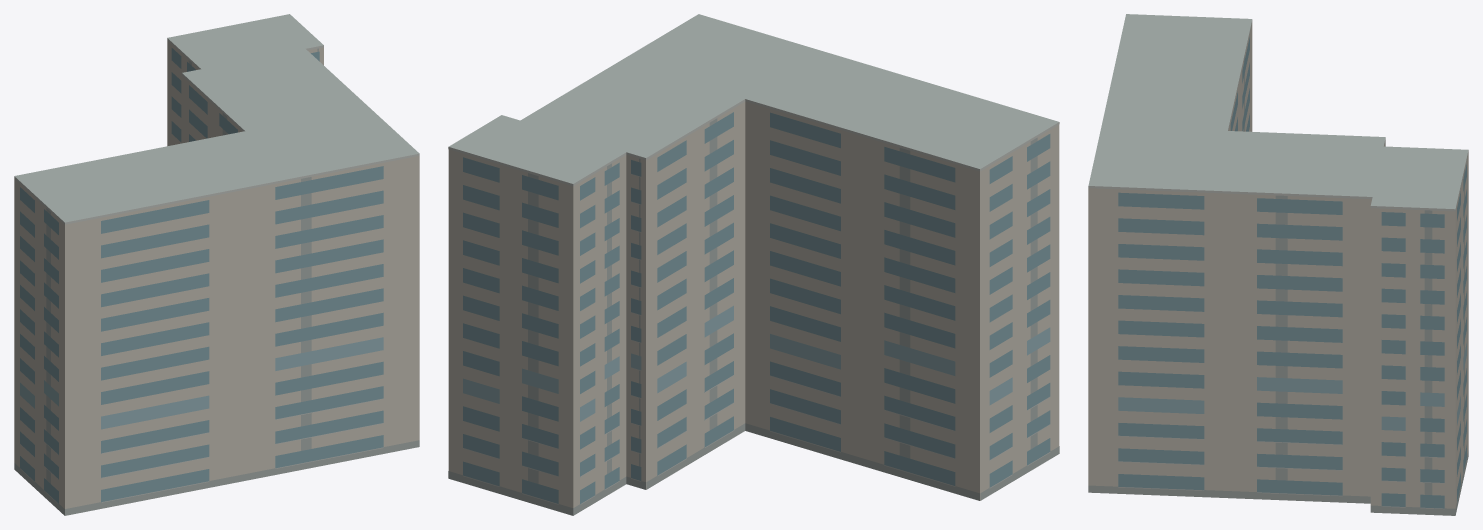
Rendered from residential-3ec2258b-1915-4c05-a809-3e0ac2351b09.glb.
The picture shows the model from 3 angles, left to right: view 1: azimuth 30°, elevation 25°; view 2: azimuth 150°, elevation 25°; view 3: azimuth 270°, elevation 25°; orthographic projection. The views are drawn at different scales.
Visible parts, largest first — view 1: residential-3ec2258b-1915-4c05-a809-3e0ac2351b09.tmp; view 2: residential-3ec2258b-1915-4c05-a809-3e0ac2351b09.tmp; view 3: residential-3ec2258b-1915-4c05-a809-3e0ac2351b09.tmp.
Part boxes in pixels (left/top/right/bottom): residential-3ec2258b-1915-4c05-a809-3e0ac2351b09.tmp: left=14, top=14, right=419, bottom=515; residential-3ec2258b-1915-4c05-a809-3e0ac2351b09.tmp: left=448, top=14, right=1059, bottom=515; residential-3ec2258b-1915-4c05-a809-3e0ac2351b09.tmp: left=1088, top=14, right=1468, bottom=515.
Size of the model in its own units: 45.04 by 33 by 37.07.
